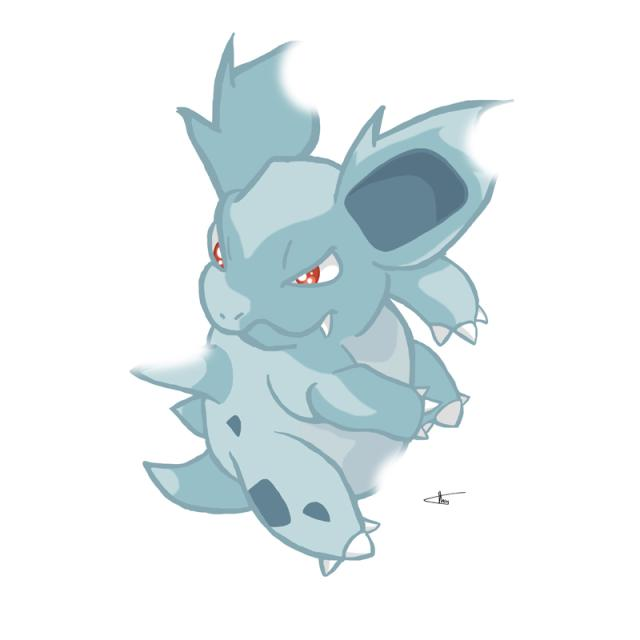Nidorina: (139, 52, 511, 545)
